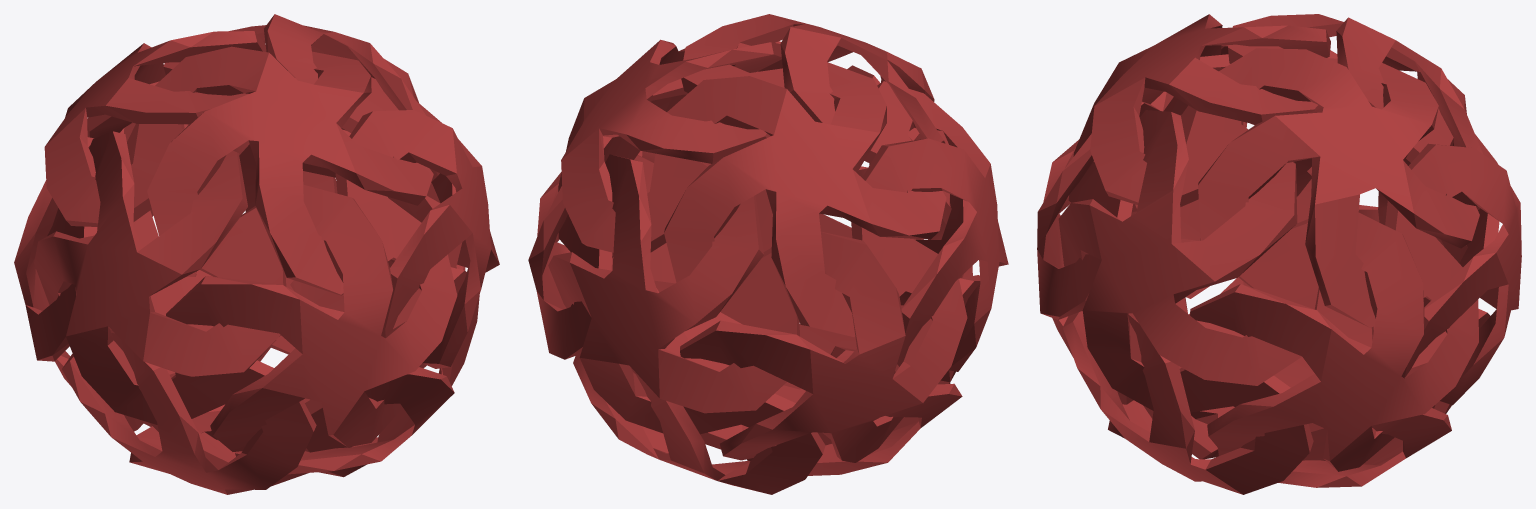
3 renders of one model, left to right at view 1: azimuth 30°, elevation 25°; view 2: azimuth 150°, elevation 25°; view 3: azimuth 270°, elevation 25°, orthographic. The views are drawn at different scales.
Parts seen in each view (by area): view 1: Interlinked_Ball_02; view 2: Interlinked_Ball_02; view 3: Interlinked_Ball_02.
Part boxes in pixels (x1,y1,x2,y2): Interlinked_Ball_02: [14, 14, 499, 494]; Interlinked_Ball_02: [528, 14, 1008, 494]; Interlinked_Ball_02: [1037, 14, 1521, 494].
Size of the model in its own units: 229 by 230 by 227.
Materials: 1 (1 with a texture image).
